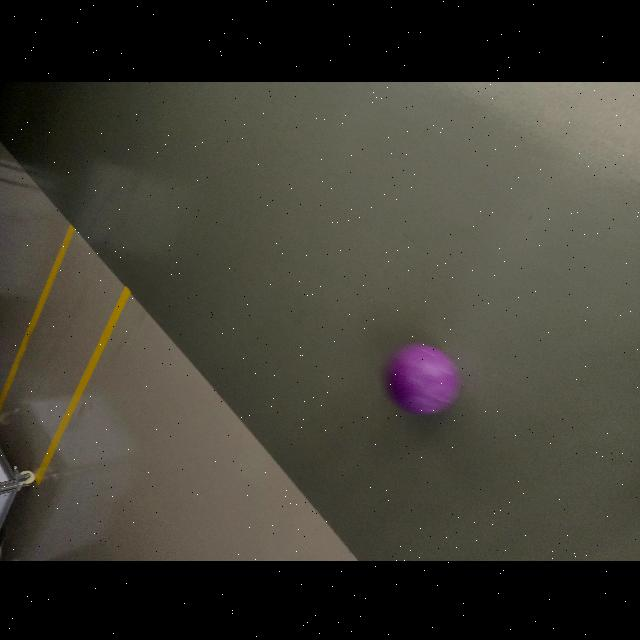P: (386, 339, 459, 419)
